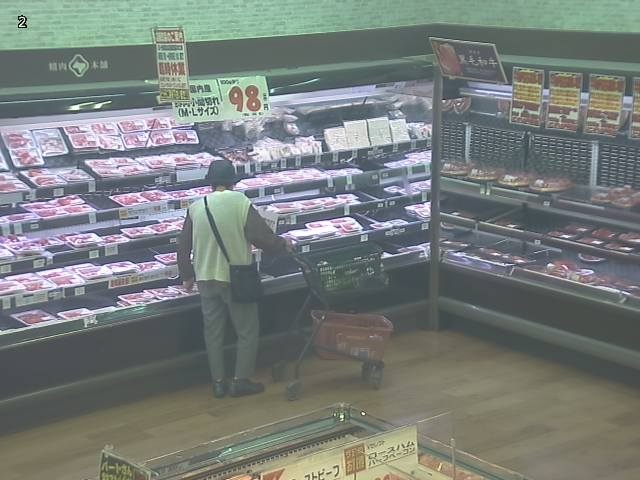meat: (0, 217, 184, 264), (0, 251, 177, 298), (62, 117, 199, 152), (58, 285, 189, 320), (84, 151, 214, 176), (2, 195, 97, 224), (0, 128, 68, 168), (255, 192, 359, 218), (234, 167, 362, 188), (281, 216, 365, 243), (110, 186, 213, 205), (20, 166, 93, 187), (384, 149, 432, 169), (385, 178, 431, 196), (12, 309, 58, 325), (0, 173, 30, 192), (405, 202, 432, 218), (370, 219, 409, 229)
meatless: (45, 100, 416, 178), (0, 278, 179, 330), (261, 229, 428, 278), (90, 245, 177, 265), (351, 207, 421, 229), (320, 155, 405, 171), (82, 221, 157, 236), (352, 184, 403, 203), (82, 194, 121, 210), (161, 180, 209, 191)
